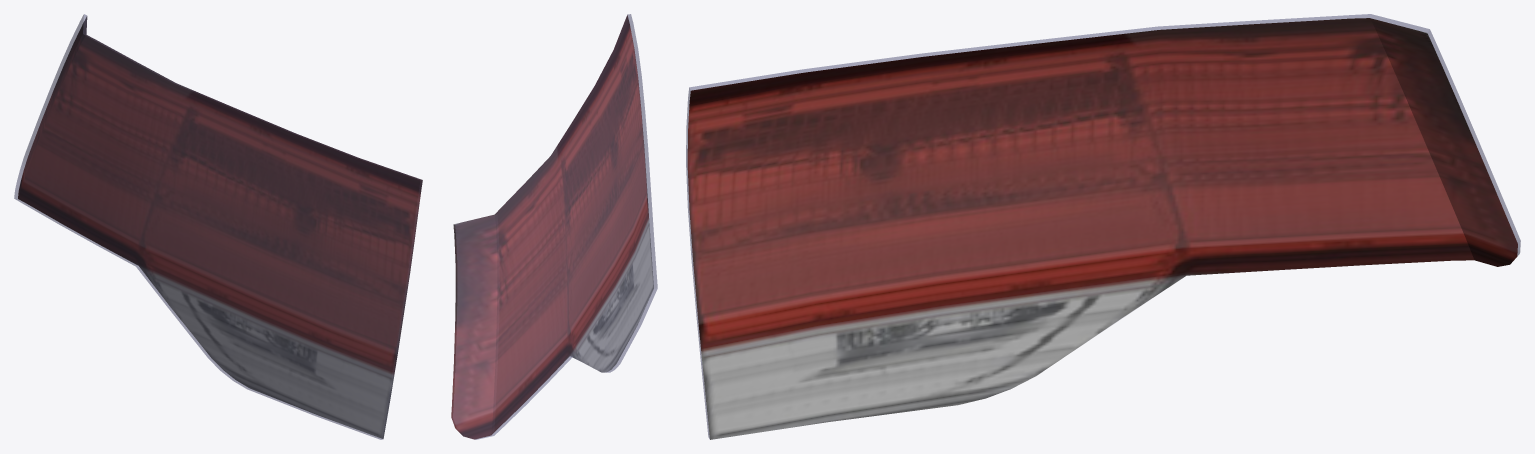
3 views of the same model, side by side, from view 1: azimuth 30°, elevation 25°; view 2: azimuth 150°, elevation 25°; view 3: azimuth 270°, elevation 25° (orthographic). The views are drawn at different scales.
Parts seen in each view (by area): view 1: H612_541D_R_1_DTaSI_H612_541D_R, H612_541D_R_H612_541D_R_2_N; view 2: H612_541D_R_1_DTaSI_H612_541D_R, H612_541D_R_H612_541D_R_2_N; view 3: H612_541D_R_H612_541D_R_2_N, H612_541D_R_1_DTaSI_H612_541D_R.
Part boxes in pixels (bbox=[...]): H612_541D_R_1_DTaSI_H612_541D_R: bbox=[14, 14, 422, 439]; H612_541D_R_H612_541D_R_2_N: bbox=[18, 16, 422, 438]; H612_541D_R_1_DTaSI_H612_541D_R: bbox=[451, 14, 657, 439]; H612_541D_R_H612_541D_R_2_N: bbox=[451, 15, 653, 439]; H612_541D_R_H612_541D_R_2_N: bbox=[687, 18, 1517, 439]; H612_541D_R_1_DTaSI_H612_541D_R: bbox=[686, 14, 1520, 438].
Size of the model in its own units: 14.06 by 24.84 by 50.26.
